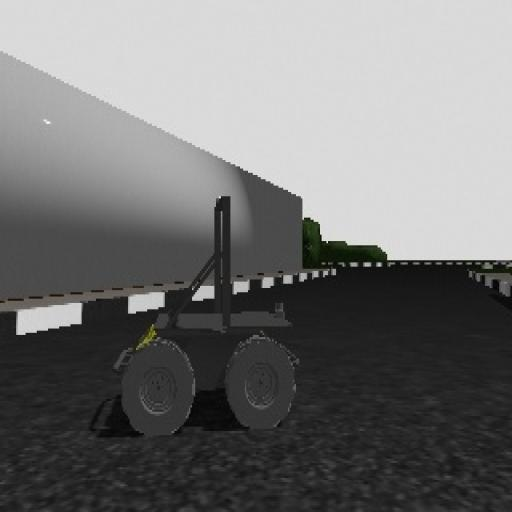huskya200: (96, 182, 310, 436)
